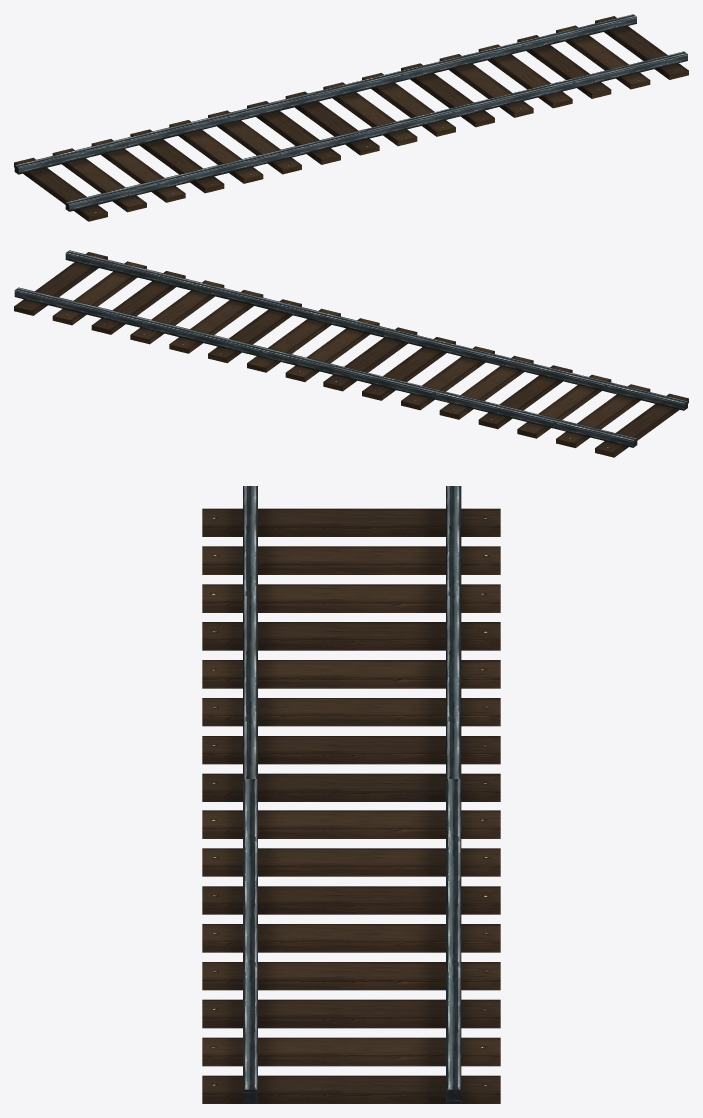
File: rail3.FBX
The picture shows the model from 3 angles, top to bottom: view 1: azimuth 30°, elevation 25°; view 2: azimuth 150°, elevation 25°; view 3: azimuth 270°, elevation 25°; orthographic projection. The views are drawn at different scales.
Parts seen in each view (by area): view 1: rail3; view 2: rail3; view 3: rail3.
Part boxes in pixels (bbox=[...]): rail3: bbox=[14, 14, 688, 221]; rail3: bbox=[14, 250, 688, 457]; rail3: bbox=[202, 486, 500, 1103].
Size of the model in its own units: 571 by 10.19 by 119.
